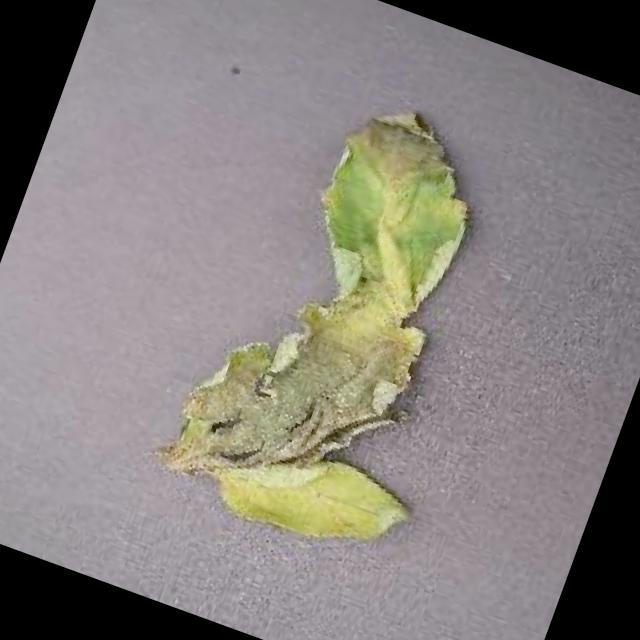Tomato late blight leaf: (144, 67, 542, 582)
